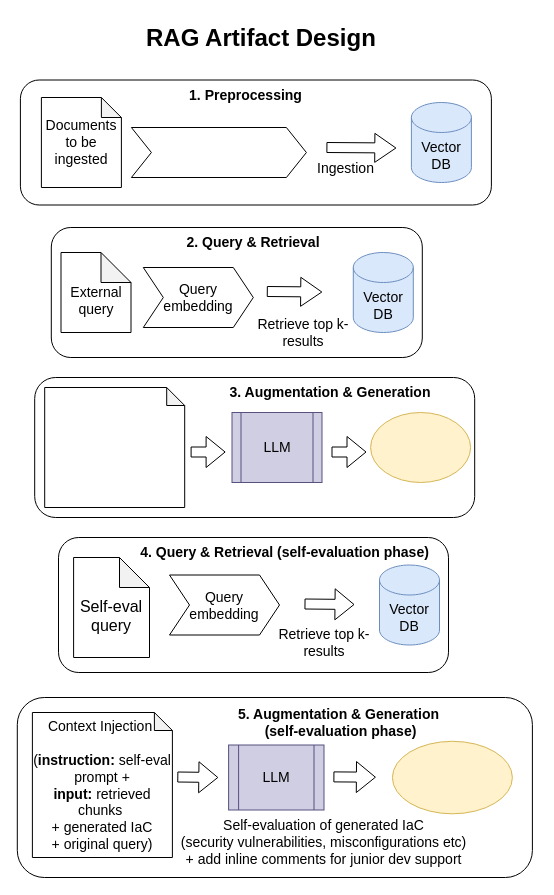
The diagram is 554 pixels wide and 895 high, and some of its shapes have lost their labels. The shapes that lost their labels are listed below. From the top down, each one's box as (x1, y1, x2, y2) in pixels, then its label:
(130, 126, 306, 178): Document chunking & embedding
(44, 386, 185, 508): Context Injection ( instruction: external query + input: retrieved chunks)
(370, 412, 471, 482): Generated IaC
(391, 740, 512, 814): Self-evaluated generated IaC
